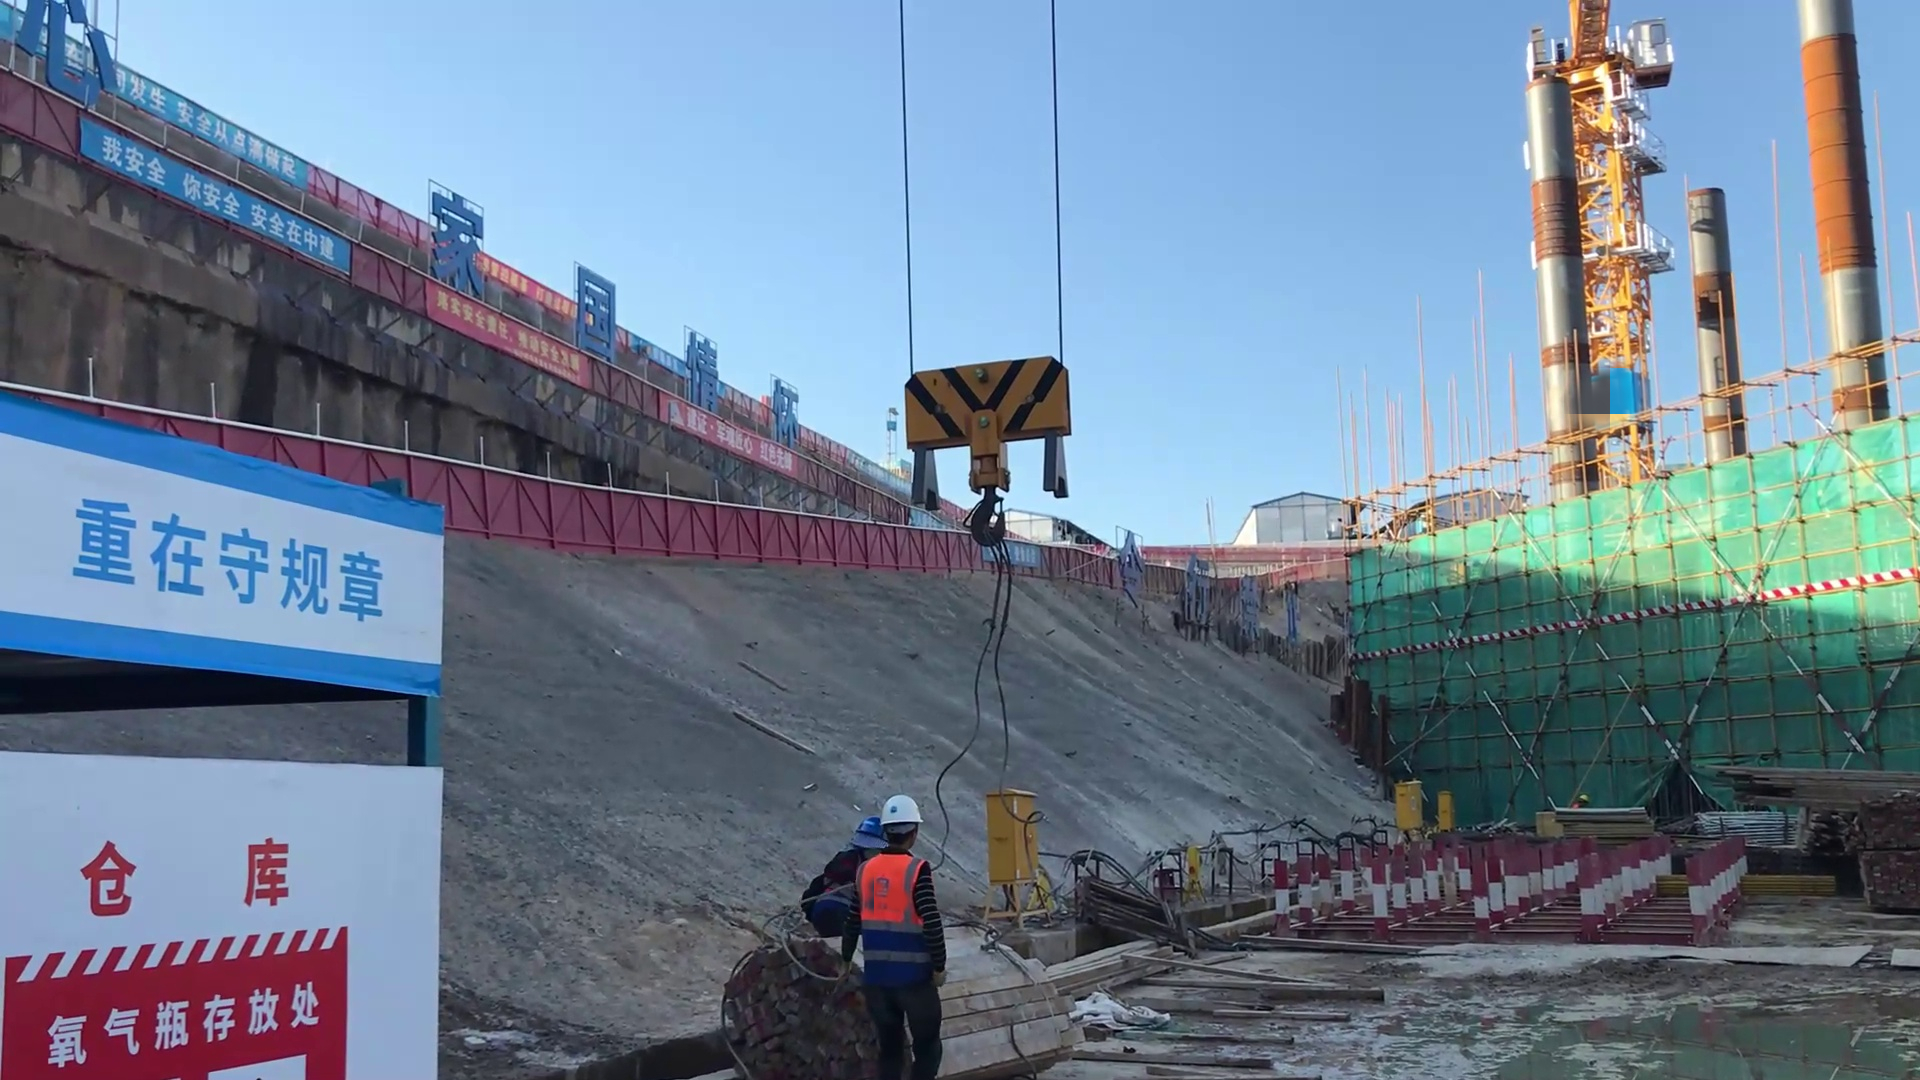ebox: (984, 781, 1041, 892), (1393, 782, 1431, 843), (1437, 792, 1451, 837)
fence: (445, 455, 758, 563), (754, 511, 978, 579)
helmet: (884, 791, 924, 840), (1579, 793, 1587, 803)
hook: (897, 338, 1080, 511)
person: (865, 792, 953, 1080)
slogan: (8, 512, 428, 646), (84, 146, 349, 316), (80, 42, 325, 212), (403, 283, 569, 420)
vest: (858, 846, 917, 926)
wood: (1147, 915, 1344, 1080), (951, 926, 1088, 1075), (1707, 760, 1920, 811)
